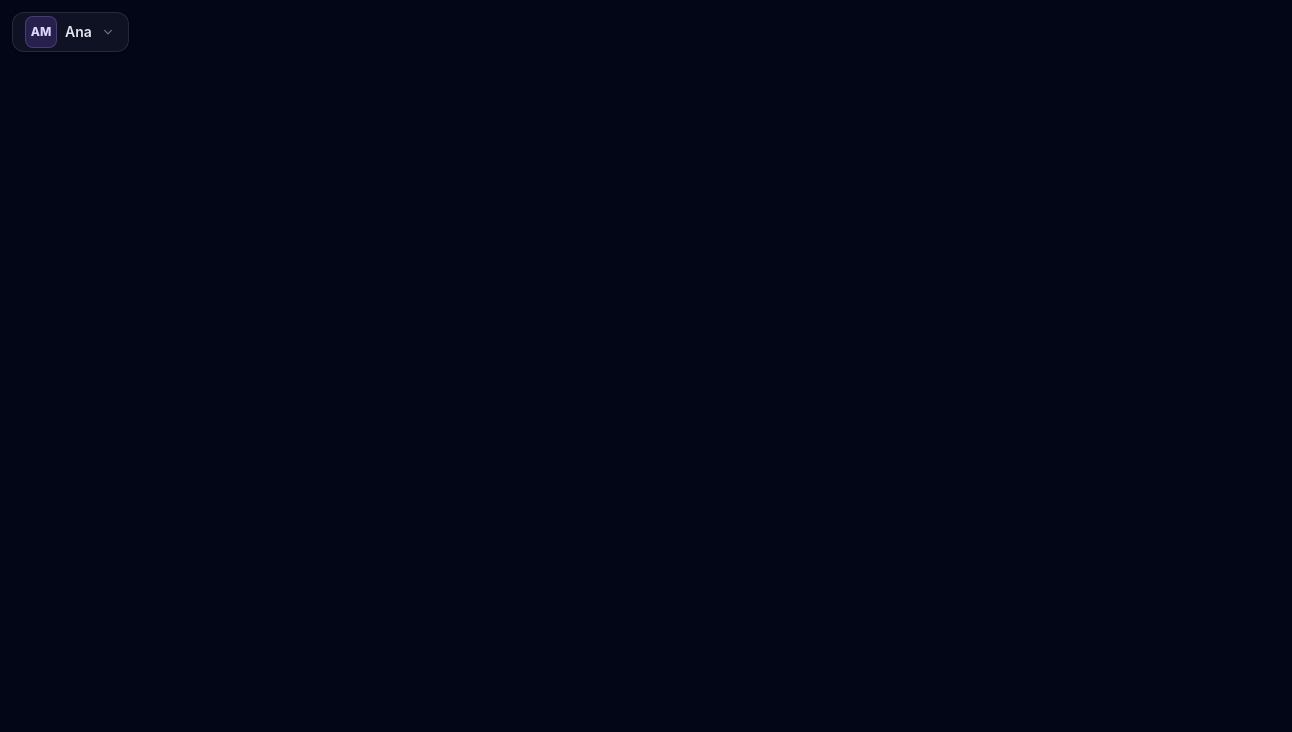
ProfileMenu › muestra al moderador su panel y conserva las funciones de aprendizaje
Click the button with aria-label "Abrir menú de Ana Moderadora" at [70, 32], box [12,12,129,52]
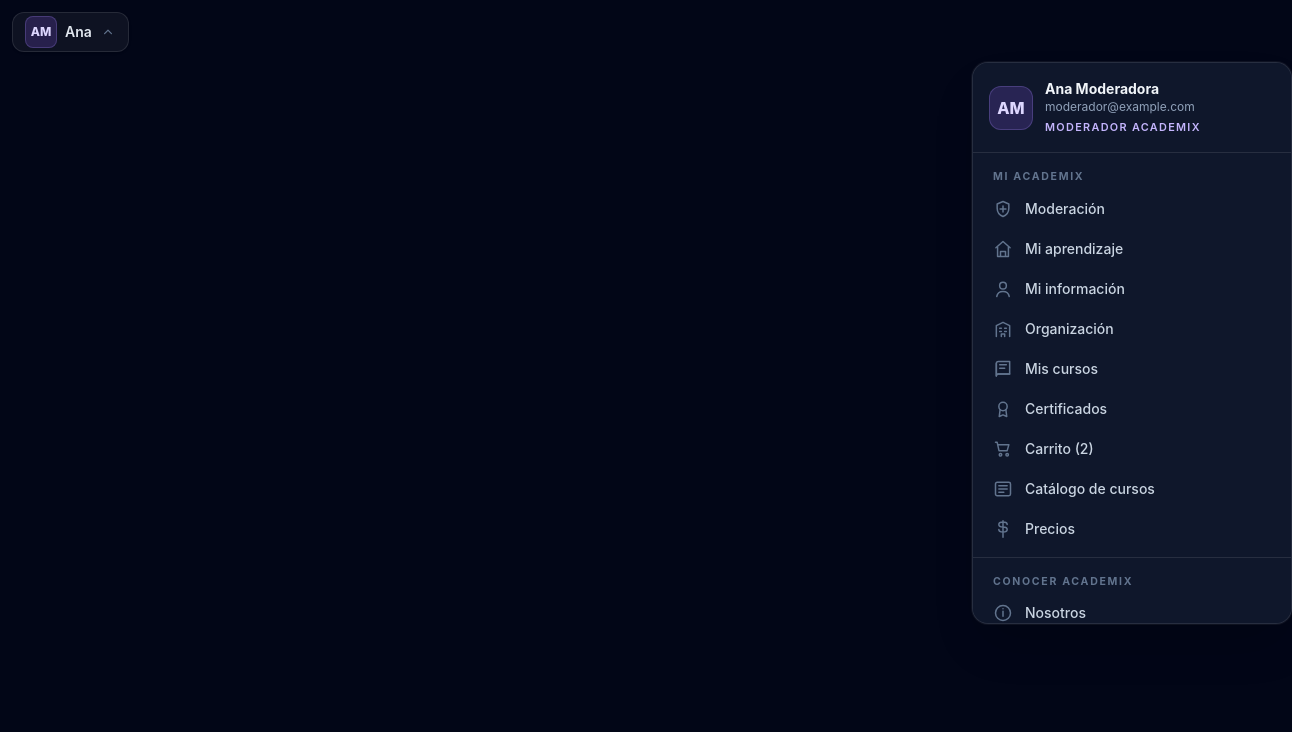
Expected: the text "Moderador Academix" is shown, [1045,119,1201,136]
